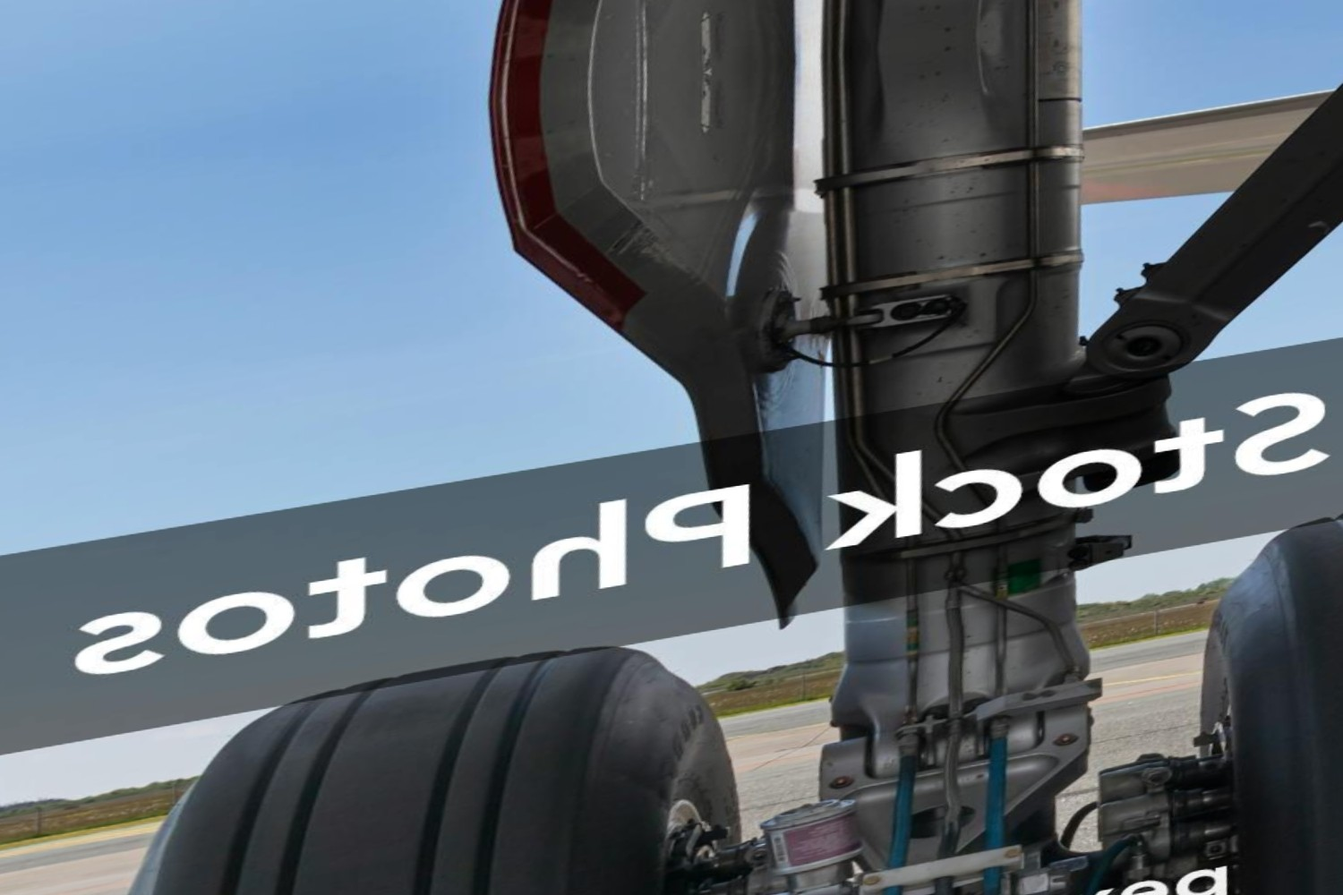wheel: (22, 615, 795, 895), (1140, 446, 1343, 895)
